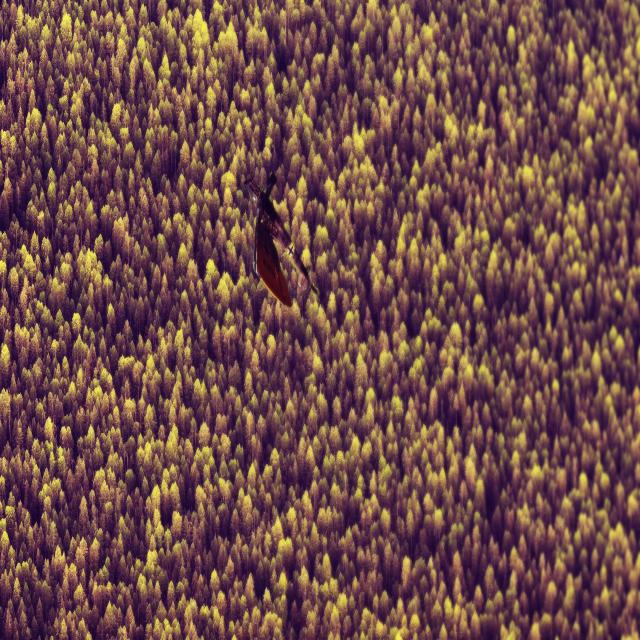airplane: (243, 170, 320, 308)
